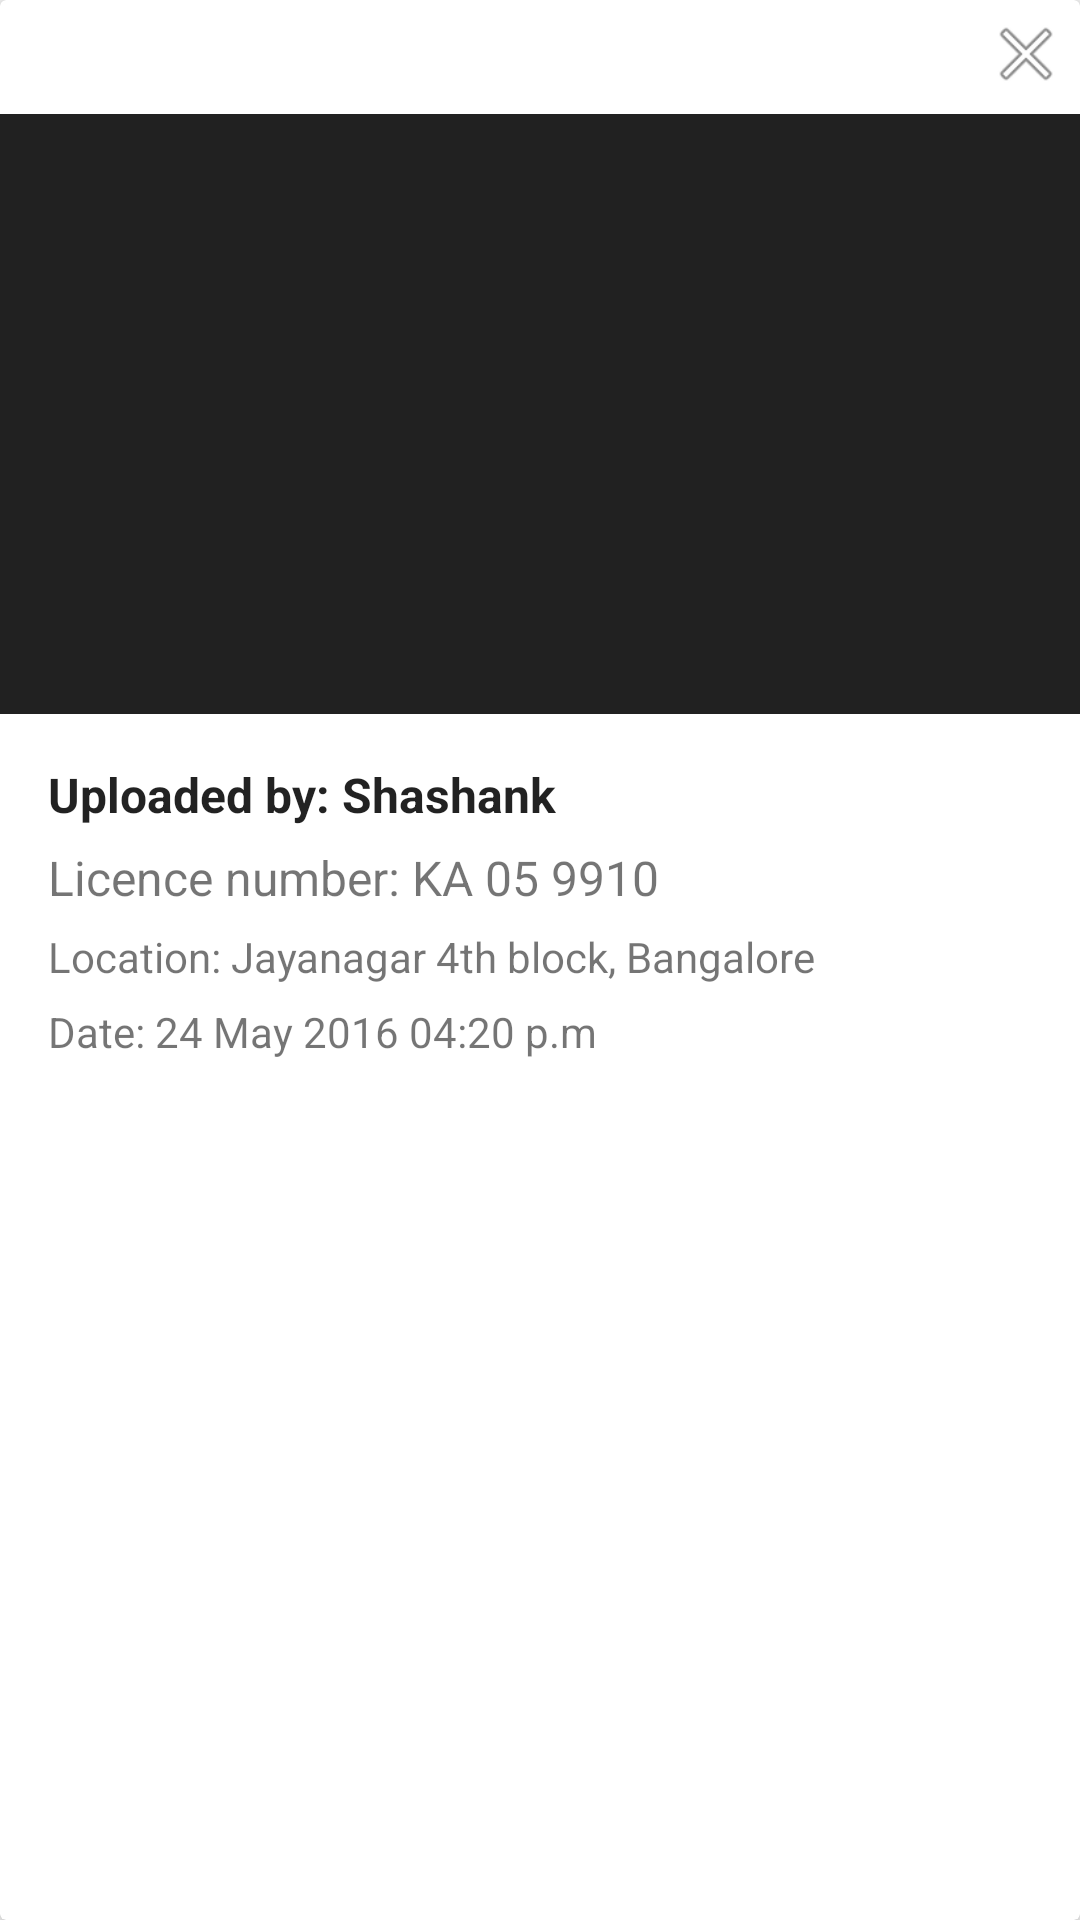

Icon bounding boxes for this 1080 x 1920 phone screenshot, format (x1, y1, x2, y2):
close clear cancel: (1000, 0, 1080, 80)
